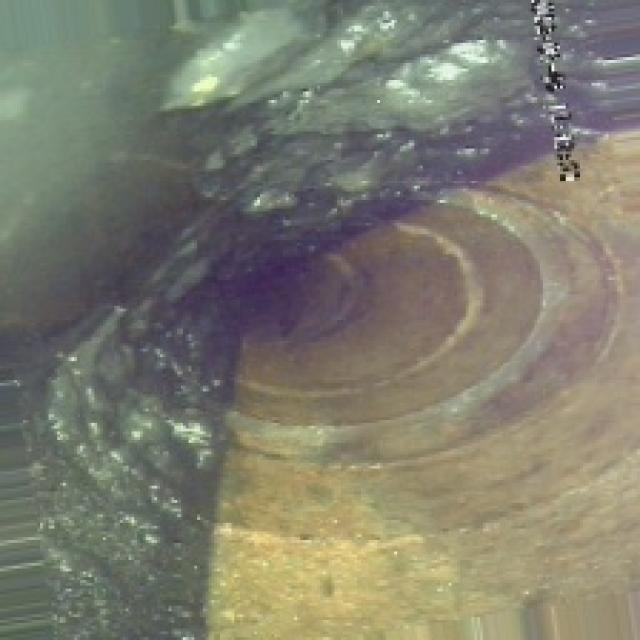sluge accumulation: (26, 23, 608, 548)
